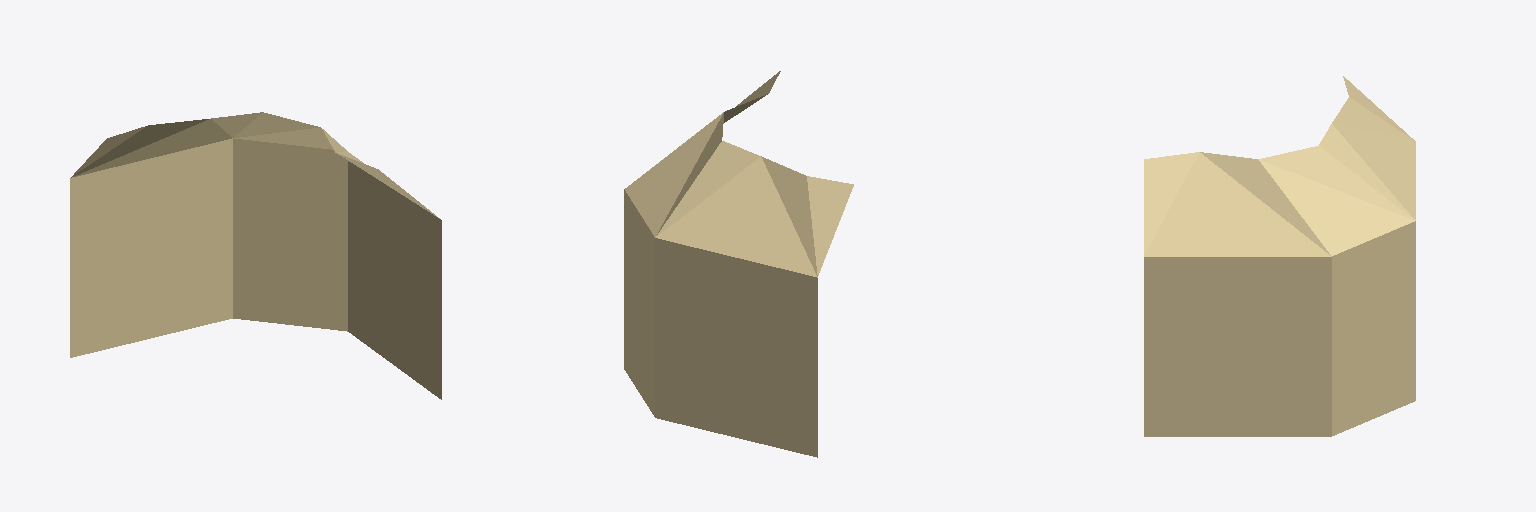
The model's file is wfc_module_12.obj.
3 renders of one model, left to right at view 1: azimuth 30°, elevation 25°; view 2: azimuth 150°, elevation 25°; view 3: azimuth 270°, elevation 25°, orthographic.
Bounding box in the file's own units: 0.5 × 0.5 × 0.5.